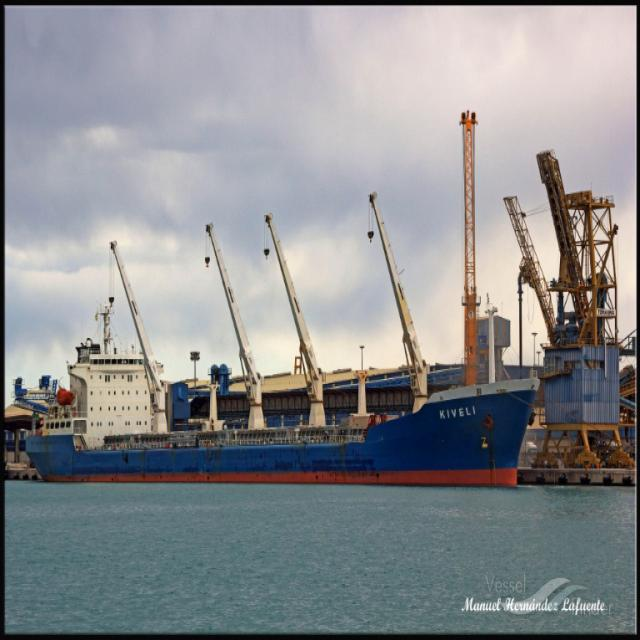Bulk Carrier: (21, 291, 541, 487)
